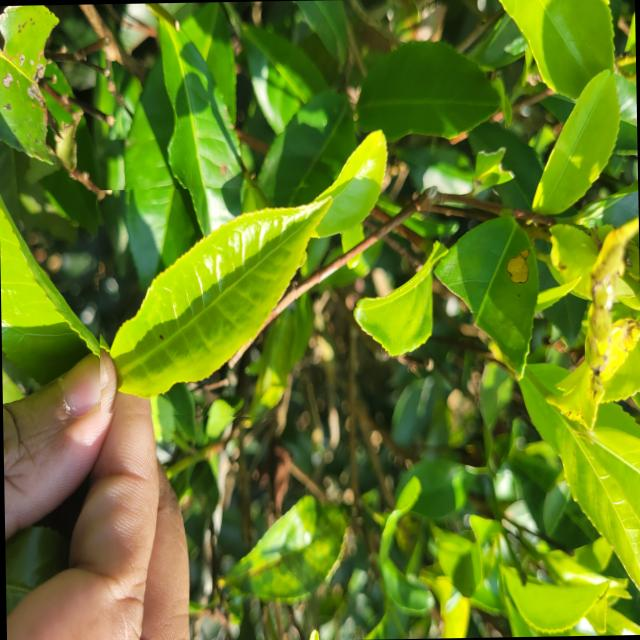Catagory A(1-2 days): (95, 185, 354, 424)
